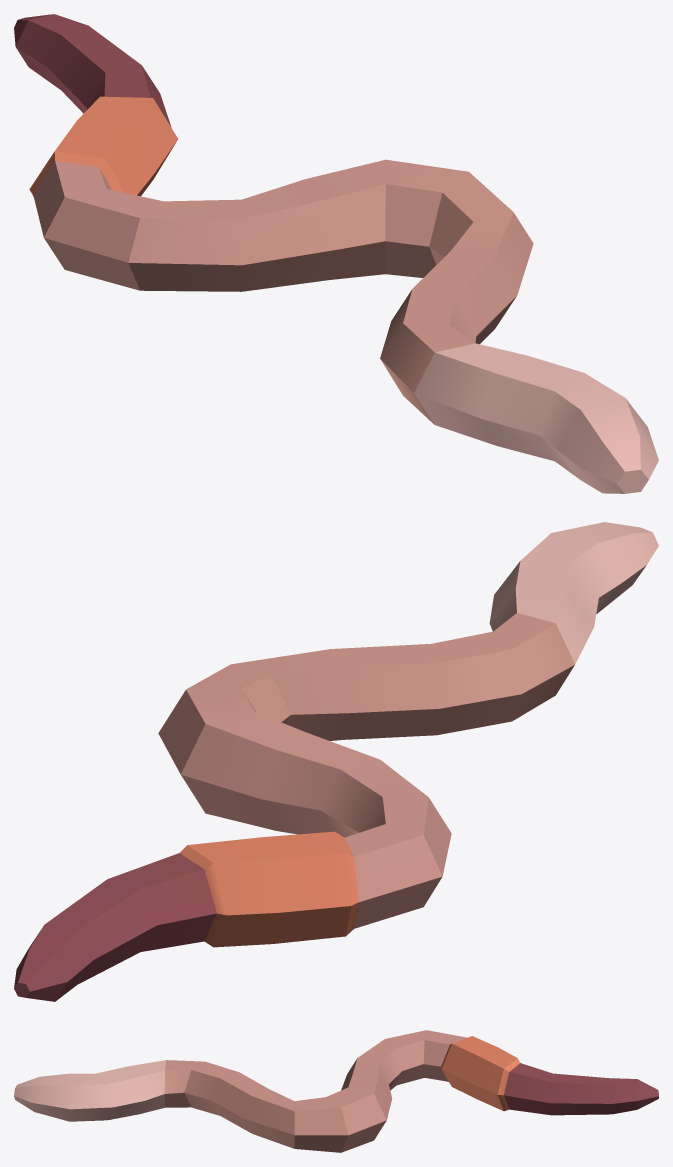
Rendered from 9xOaiLvBLF-.glb.
The picture shows the model from 3 angles, top to bottom: view 1: azimuth 30°, elevation 25°; view 2: azimuth 150°, elevation 25°; view 3: azimuth 270°, elevation 25°; orthographic projection. The views are drawn at different scales.
Parts seen in each view (by area): view 1: Geo_Earthworm; view 2: Geo_Earthworm; view 3: Geo_Earthworm.
Boxes of the visible parts, x1,y1,x2,y2 form: Geo_Earthworm: (14, 14, 658, 493); Geo_Earthworm: (14, 522, 658, 1001); Geo_Earthworm: (14, 1030, 658, 1152).
Size of the model in its own units: 4.2 by 1 by 12.51.
Materials: 1 (1 with a texture image).
